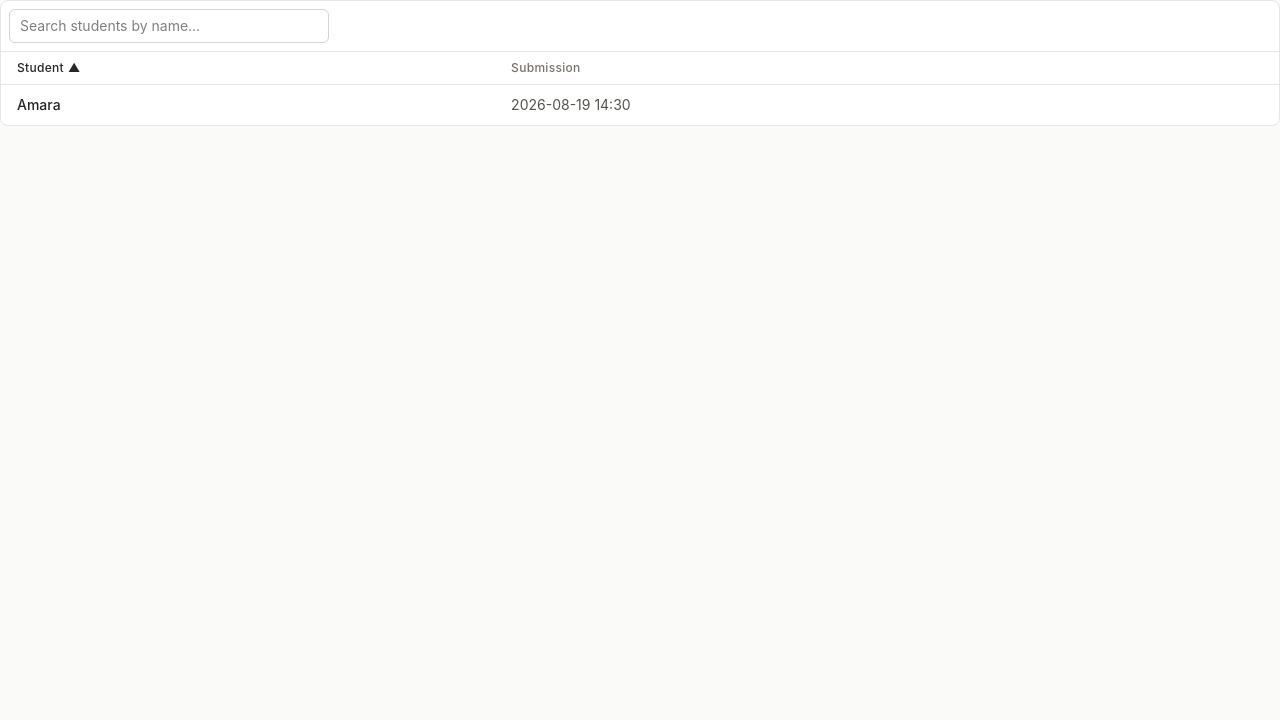
Test: Roster drill-in › labels the button as already-sent when a release marker exists
The image size is (1280, 720).
Click the text "Amara". click: {"x": 39, "y": 104}
box: [1, 84, 495, 125]
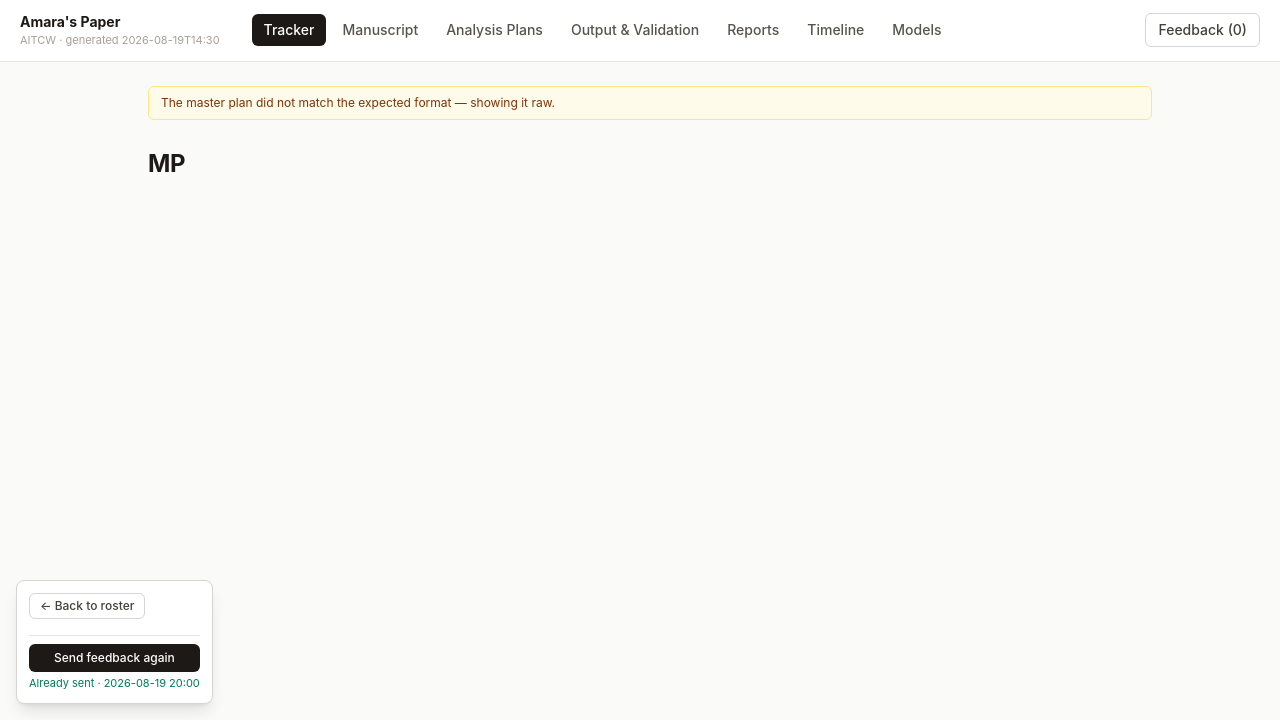
Expected: the text "Amara's Paper" is shown, [20, 13, 120, 30]
Expected: the button "Send feedback again" is shown, [29, 644, 200, 672]
Expected: the text "Already sent · 2026-08-19 20:00" is shown, [29, 676, 200, 691]
